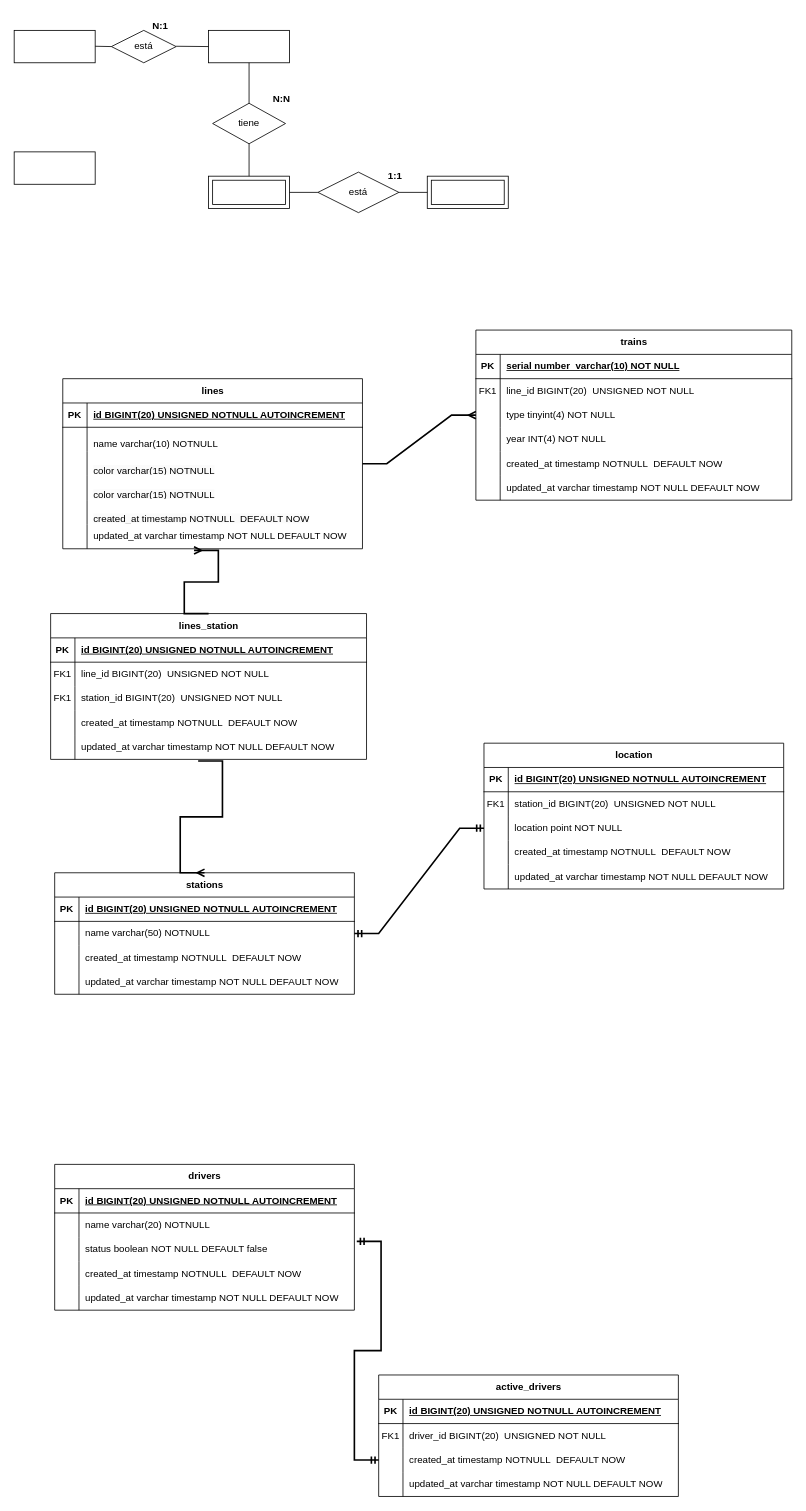
This 806x1511 diagram has some shape labels left out. The shapes that lost their labels are listed below. From the top down, each one's centre as x and y in pixels, then its label:
At [54,46]: "Trenes".
At [249,46]: "Lineas".
At [54,167]: "Conductores".
At [249,192]: "Estaciones".
At [467,192]: "Ubicaciones".
